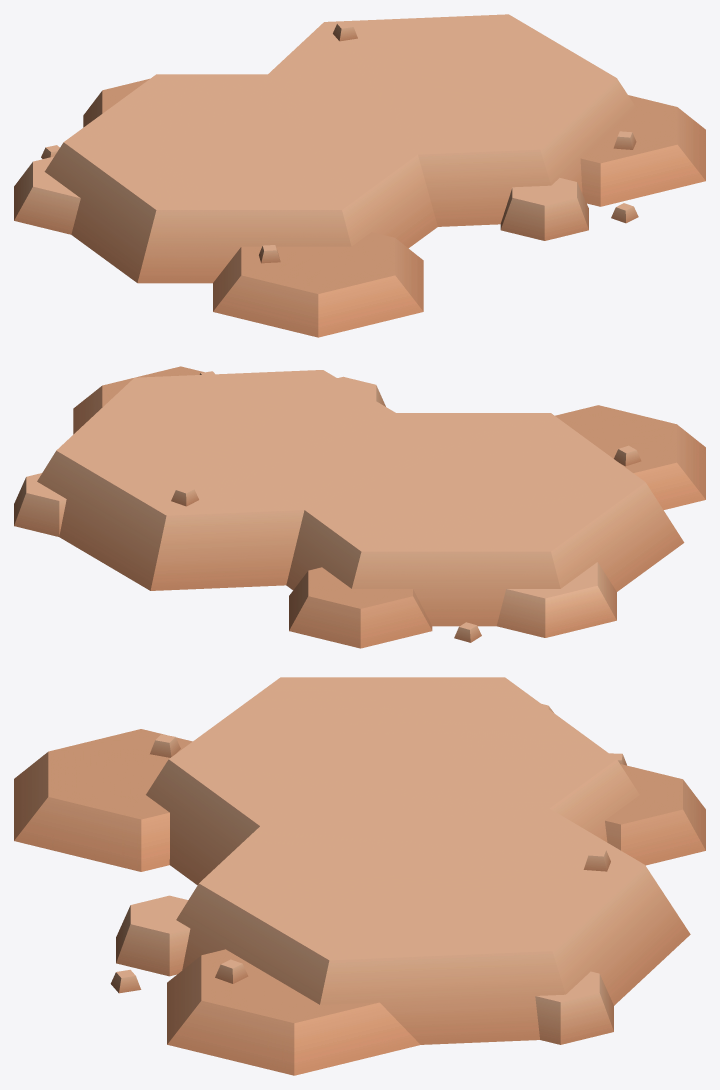
File: rock-flat.glb
3 views of the same model, one above another, from view 1: azimuth 30°, elevation 25°; view 2: azimuth 150°, elevation 25°; view 3: azimuth 270°, elevation 25° (orthographic). The views are drawn at different scales.
Parts seen in each view (by area): view 1: rock-flat; view 2: rock-flat; view 3: rock-flat.
Boxes of the visible parts, x1=… form: rock-flat: x1=14, y1=14, x2=705, y2=337; rock-flat: x1=14, y1=366, x2=705, y2=648; rock-flat: x1=14, y1=677, x2=705, y2=1075.
Bounding box in the file's own units: 1.79 × 0.195 × 1.45.
Materials: 1 (1 with a texture image).
